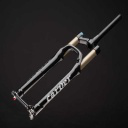fork: (6, 15, 127, 118)
